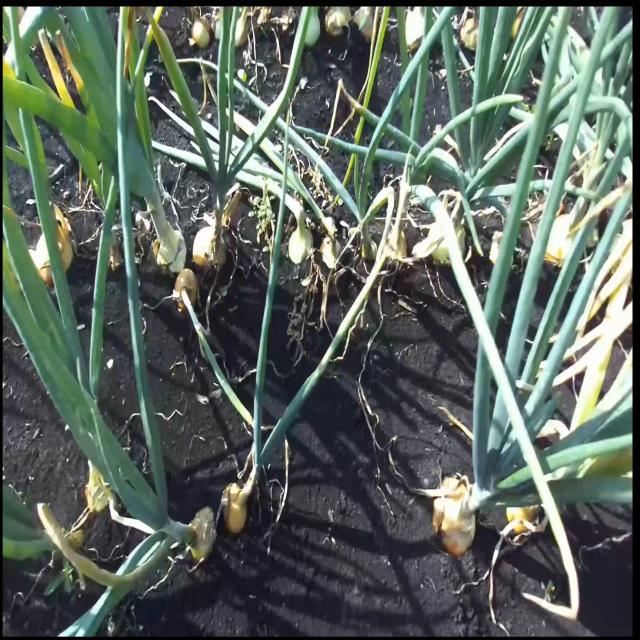onion: (432, 475, 476, 558), (36, 224, 70, 286), (545, 210, 580, 268), (184, 510, 214, 564), (194, 224, 224, 276), (220, 484, 246, 536), (155, 227, 184, 271), (172, 268, 198, 313), (285, 222, 312, 264), (387, 227, 410, 260), (325, 235, 343, 272), (191, 17, 211, 49)
